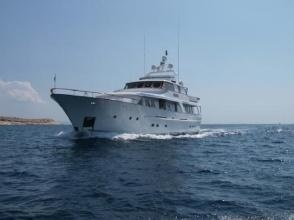yacht: (42, 57, 209, 141)
